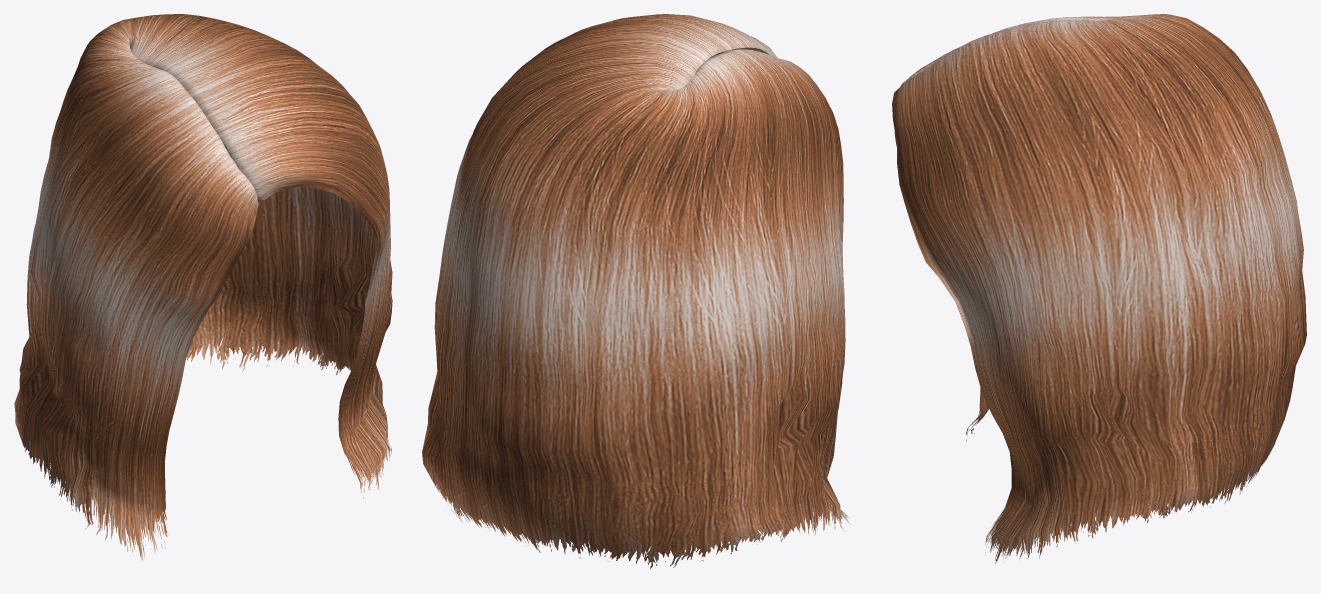
The model's file is mh_toigo_blunt_bob.glb.
3 renders of one model, left to right at view 1: azimuth 30°, elevation 25°; view 2: azimuth 150°, elevation 25°; view 3: azimuth 270°, elevation 25°, orthographic. The views are drawn at different scales.
Visible parts, largest first — view 1: mh_toigo_blunt_bob; view 2: mh_toigo_blunt_bob; view 3: mh_toigo_blunt_bob.
Part boxes in pixels (left/top/right/bottom): mh_toigo_blunt_bob: left=14, top=14, right=392, bottom=560; mh_toigo_blunt_bob: left=422, top=14, right=849, bottom=568; mh_toigo_blunt_bob: left=892, top=14, right=1306, bottom=563.
Size of the model in its own units: 0.2183 by 0.2943 by 0.2281.
1 material, 1 textured.
